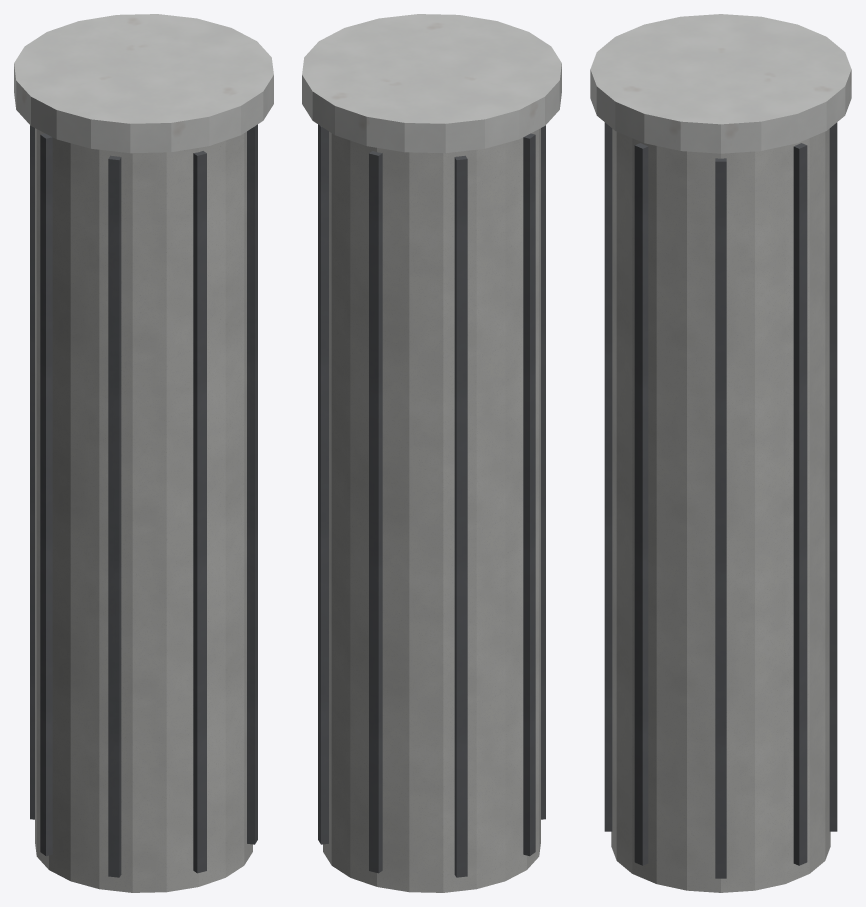
The model's file is sh_col.gltf.
The picture shows the model from 3 angles, left to right: view 1: azimuth 30°, elevation 25°; view 2: azimuth 150°, elevation 25°; view 3: azimuth 270°, elevation 25°; orthographic projection.
Visible parts, largest first — view 1: sh_col; view 2: sh_col; view 3: sh_col.
Boxes of the visible parts, x1,y1,x2,y2 form: sh_col: (14, 14, 273, 892); sh_col: (302, 14, 561, 892); sh_col: (590, 14, 851, 892).
Bounding box in the file's own units: 2.74 × 9 × 2.74.
Materials: 3 (3 with a texture image).
